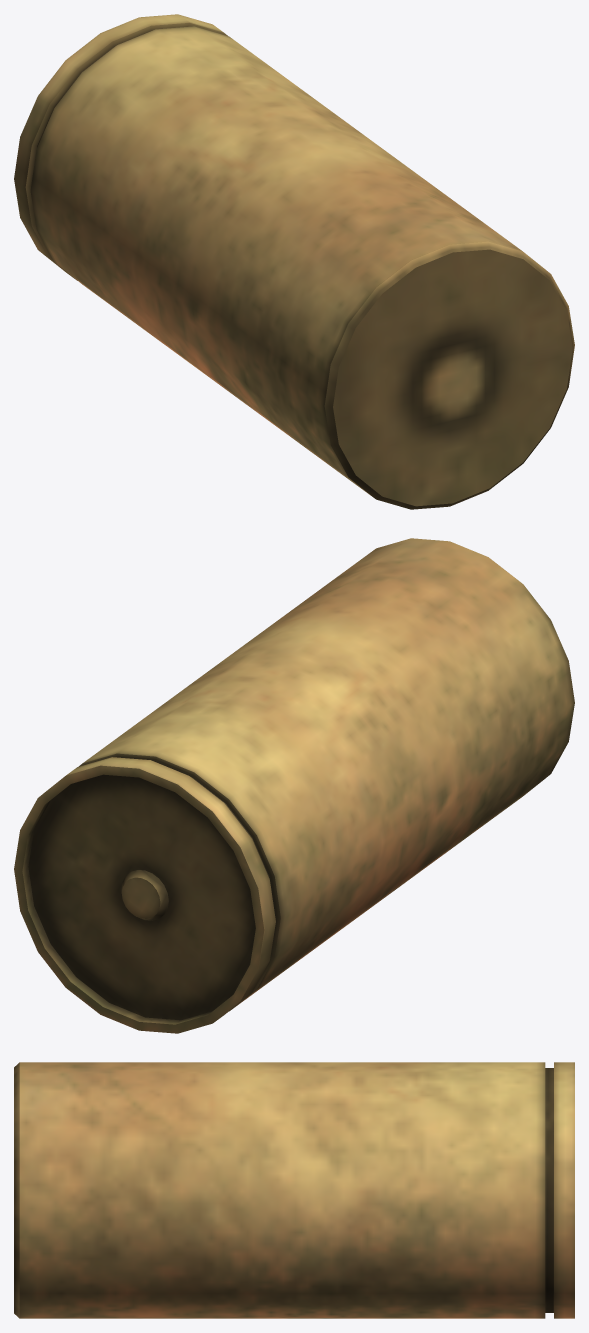
The model's file is Glaunchershell.fbx.
3 views of the same model, one above another, from view 1: azimuth 30°, elevation 25°; view 2: azimuth 150°, elevation 25°; view 3: azimuth 270°, elevation 25° (orthographic). The views are drawn at different scales.
Parts seen in each view (by area): view 1: slug1; view 2: slug1; view 3: slug1.
Part boxes in pixels (left/top/right/bottom): slug1: left=14, top=14, right=574, bottom=509; slug1: left=14, top=538, right=574, bottom=1033; slug1: left=14, top=1062, right=574, bottom=1318.
Bounding box in the file's own units: 3.5 × 3.5 × 7.6.
